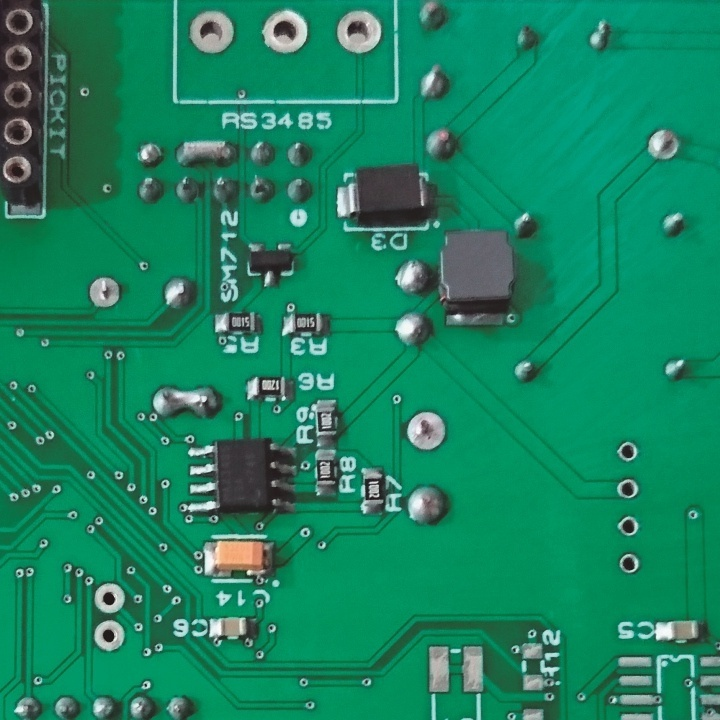F: (332, 9, 385, 57), (187, 7, 237, 57), (258, 7, 309, 55), (402, 407, 449, 455), (644, 124, 681, 165), (92, 618, 128, 658), (90, 580, 127, 618), (89, 272, 119, 313), (614, 512, 643, 540), (616, 549, 641, 575), (614, 478, 640, 501), (616, 439, 639, 464)
P: (151, 383, 221, 418), (172, 135, 237, 166)
